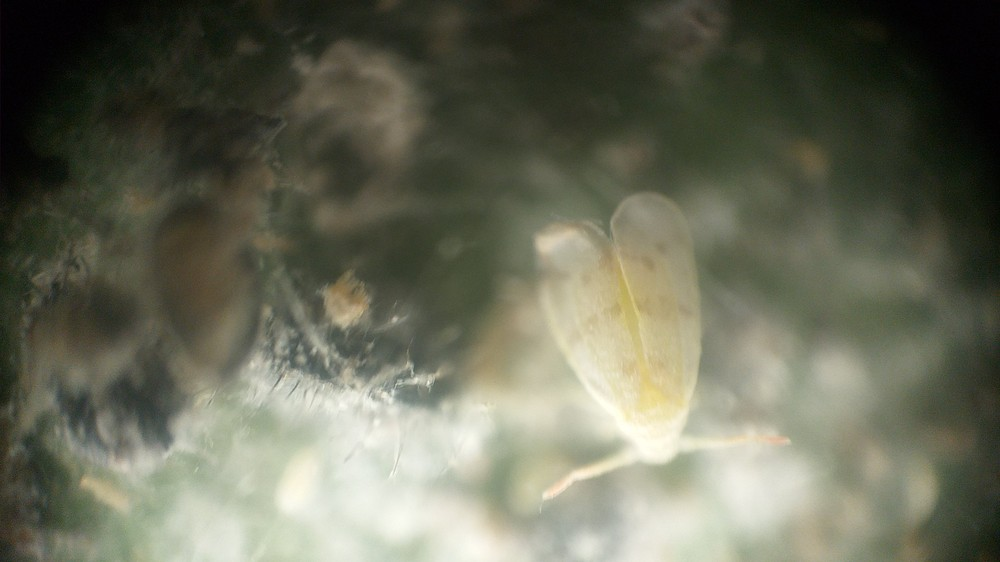Mosca Blanca: (486, 184, 832, 527)
